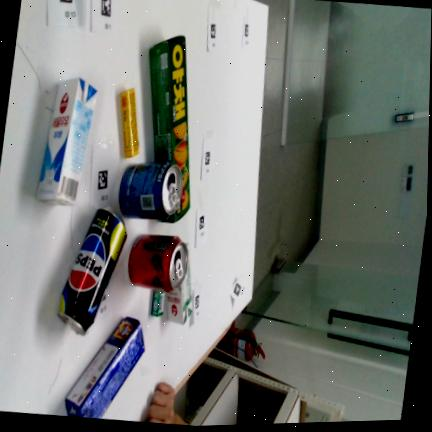can_coke_zero: (128, 235, 188, 292)
can_pepsi: (119, 161, 182, 221)
can_pepsi_zero: (58, 208, 126, 334)
cracker_ace: (65, 317, 144, 418)
cracker_vege: (149, 36, 190, 220)
gum_green: (151, 291, 165, 316)
gum_yellow: (120, 89, 139, 157)
milk_blue: (37, 78, 98, 205)
milk_green: (164, 243, 193, 324)
